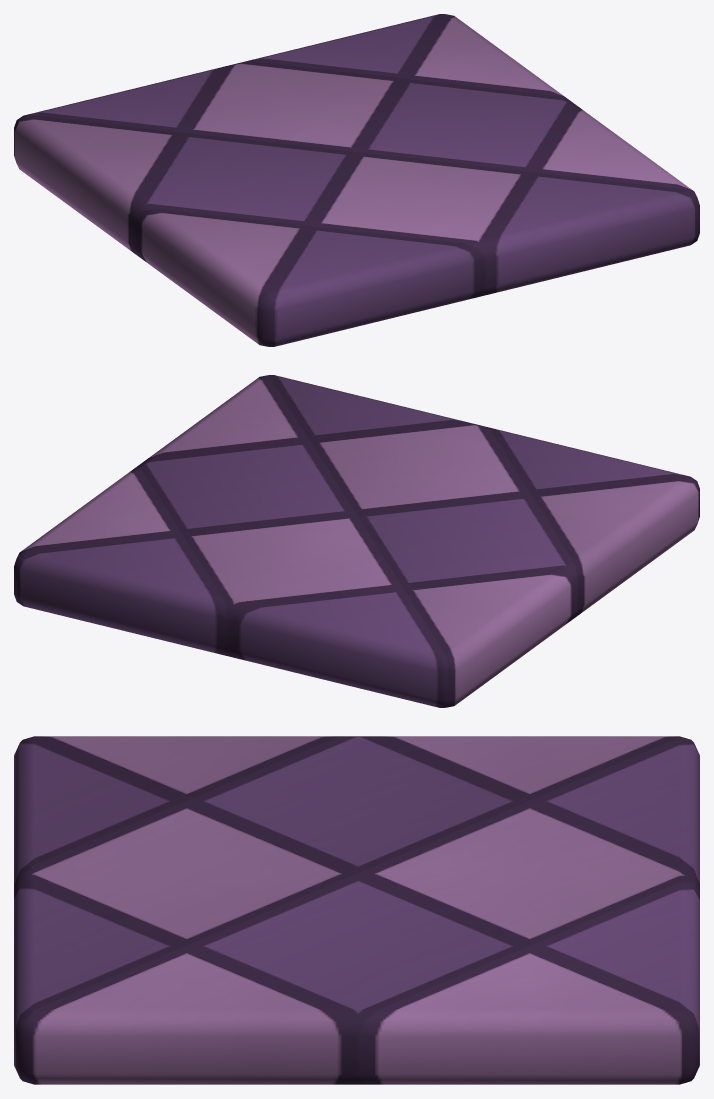
The model's file is floor.glb.
3 views of the same model, one above another, from view 1: azimuth 30°, elevation 25°; view 2: azimuth 150°, elevation 25°; view 3: azimuth 270°, elevation 25° (orthographic). The views are drawn at different scales.
Visible parts, largest first — view 1: floor; view 2: floor; view 3: floor.
Boxes of the visible parts, x1,y1,x2,y2 form: floor: (14, 14, 699, 346); floor: (14, 375, 699, 707); floor: (14, 736, 699, 1084).
Bounding box in the file's own units: 1 × 0.12 × 1.
1 material, 1 textured.
